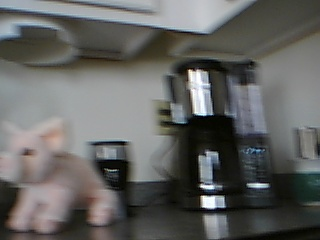piggy: (1, 117, 119, 235)
